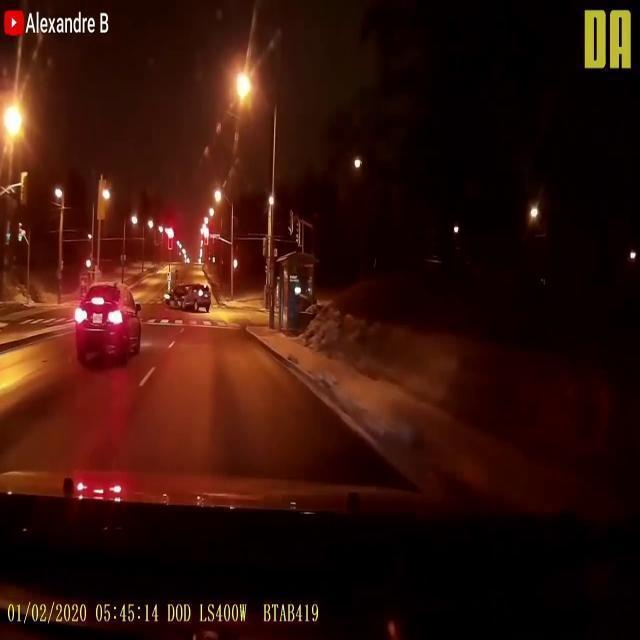accident: (162, 282, 212, 316)
